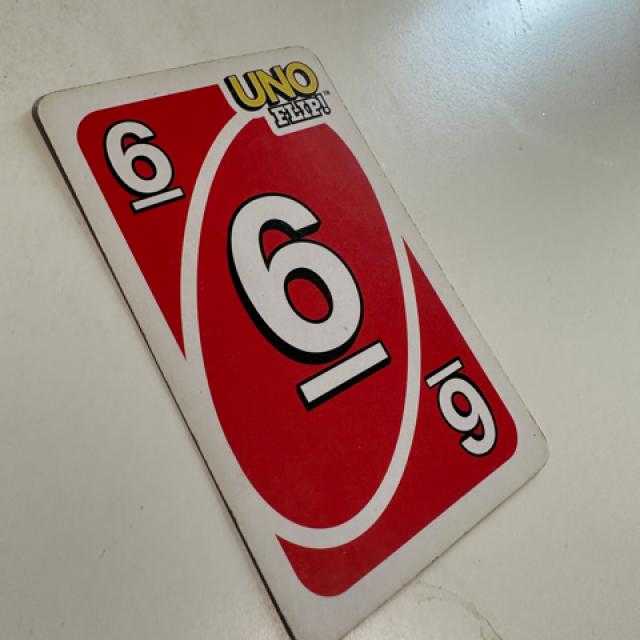lred-6: (94, 100, 204, 219)
